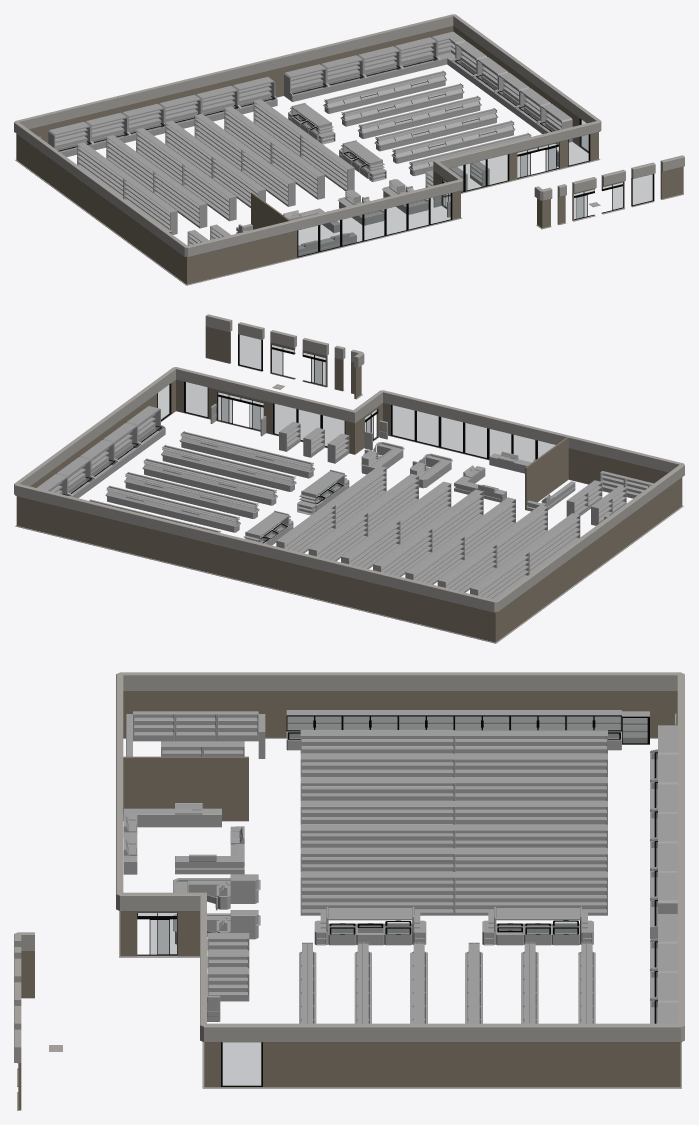
File: GroceryStoreuild.fbx
3 views of the same model, one above another, from view 1: azimuth 30°, elevation 25°; view 2: azimuth 150°, elevation 25°; view 3: azimuth 270°, elevation 25° (orthographic). The views are drawn at different scales.
Visible parts, largest first — view 1: window_glass (×11), tall_shelf14, tall_shelf15, tall_shelf12, tall_shelf4, tall_shelf11, tall_shelf16, tall_shelf6, tall_shelf3, tall_shelf7, tall_shelf8, tall_shelf9 (+60 smaller); view 2: window_glass (×6), tall_shelf4, tall_shelf11, tall_shelf12, tall_shelf14, tall_shelf13, tall_shelf15, tall_shelf16, tall_shelf7, tall_shelf8, tall_shelf3, tall_shelf5 (+66 smaller); view 3: tall_shelf4, tall_shelf3, frozenShelf_glass (×6), tall_shelf12, tall_shelf15, tall_shelf6, tall_shelf9, tall_shelf11, tall_shelf13, tall_shelf14, tall_shelf16, tall_shelf5 (+66 smaller).
Boxes of the visible parts, box(x1,y1,x2,y2) form: window_glass (×11): box(298, 135, 652, 255); tall_shelf14: box(182, 162, 236, 221); tall_shelf15: box(153, 169, 207, 228); tall_shelf12: box(241, 148, 295, 206); tall_shelf4: box(300, 133, 354, 190); tall_shelf11: box(271, 141, 324, 199); tall_shelf16: box(123, 176, 177, 234); tall_shelf6: box(194, 113, 248, 170); tall_shelf3: box(253, 99, 307, 156); tall_shelf7: box(165, 121, 218, 177); tall_shelf8: box(136, 128, 189, 185); tall_shelf9: box(106, 135, 159, 192); window_glass (×6): box(185, 335, 486, 457); tall_shelf4: box(328, 466, 386, 528); tall_shelf11: box(360, 473, 418, 536); tall_shelf12: box(392, 481, 451, 544); tall_shelf14: box(457, 497, 515, 559); tall_shelf13: box(425, 489, 483, 551); tall_shelf15: box(489, 505, 547, 567); tall_shelf16: box(521, 513, 580, 574); tall_shelf7: box(373, 527, 432, 576); tall_shelf8: box(405, 535, 464, 584); tall_shelf3: box(276, 503, 335, 553); tall_shelf5: box(308, 511, 367, 561); tall_shelf4: box(300, 872, 454, 915); tall_shelf3: box(454, 872, 607, 915); frozenShelf_glass (×6): box(287, 716, 620, 730); tall_shelf12: box(300, 824, 454, 848); tall_shelf15: box(300, 753, 454, 777); tall_shelf6: box(454, 824, 607, 848); tall_shelf9: box(454, 753, 607, 777); tall_shelf11: box(300, 848, 454, 871); tall_shelf13: box(300, 801, 454, 824); tall_shelf14: box(300, 777, 454, 800); tall_shelf16: box(300, 730, 454, 753); tall_shelf5: box(454, 848, 607, 871).
Size of the model in its own units: 63.52 by 5 by 48.03.
